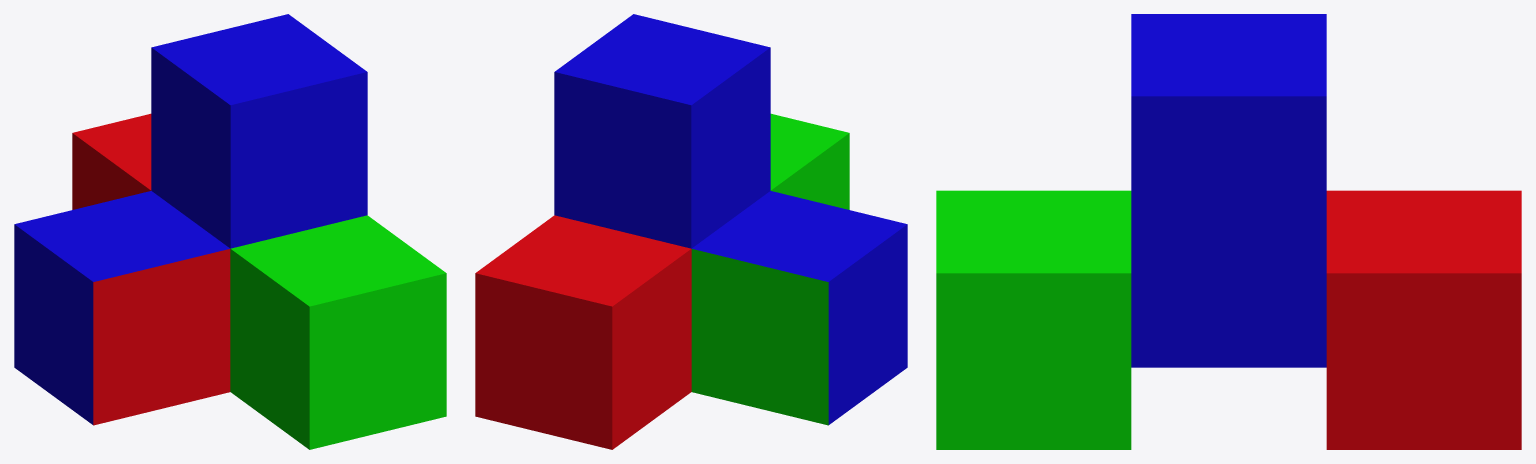
File: 3_cubes.gltf
3 views of the same model, side by side, from view 1: azimuth 30°, elevation 25°; view 2: azimuth 150°, elevation 25°; view 3: azimuth 270°, elevation 25° (orthographic). The views are drawn at different scales.
Visible parts, largest first — view 1: Cube; view 2: Cube; view 3: Cube.
Part boxes in pixels (x1,y1,x2,y2): Cube: [14, 14, 446, 449]; Cube: [475, 14, 907, 449]; Cube: [936, 14, 1521, 449].
Bounding box in the file's own units: 0.4 × 0.4 × 0.6.
